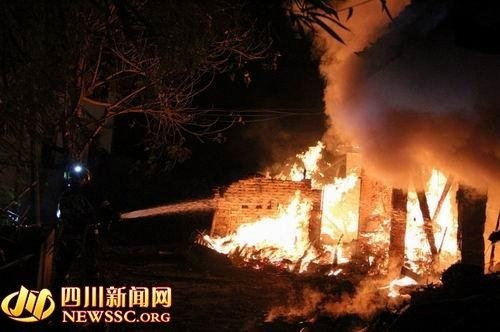fire: (209, 138, 472, 285)
